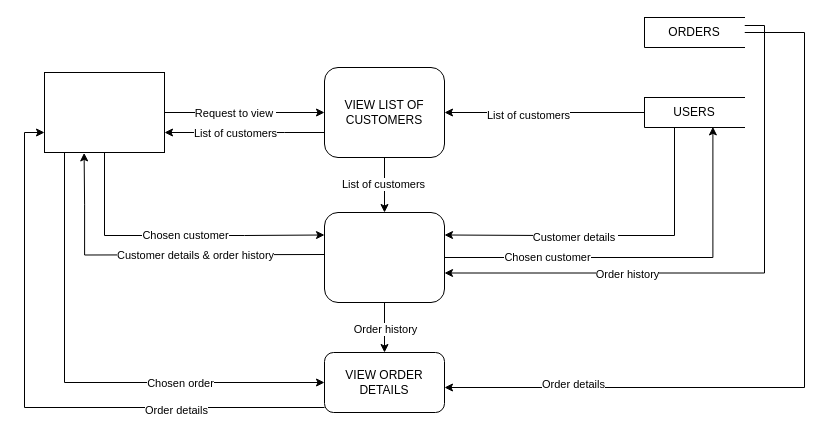
Some shapes in this 830 by 434 pixel diagram are drawn without their labels. Each missing label, with the centre of its shape:
ADMIN: [104,112]
VIEW CUSTOMER DETAILS: [384,257]
